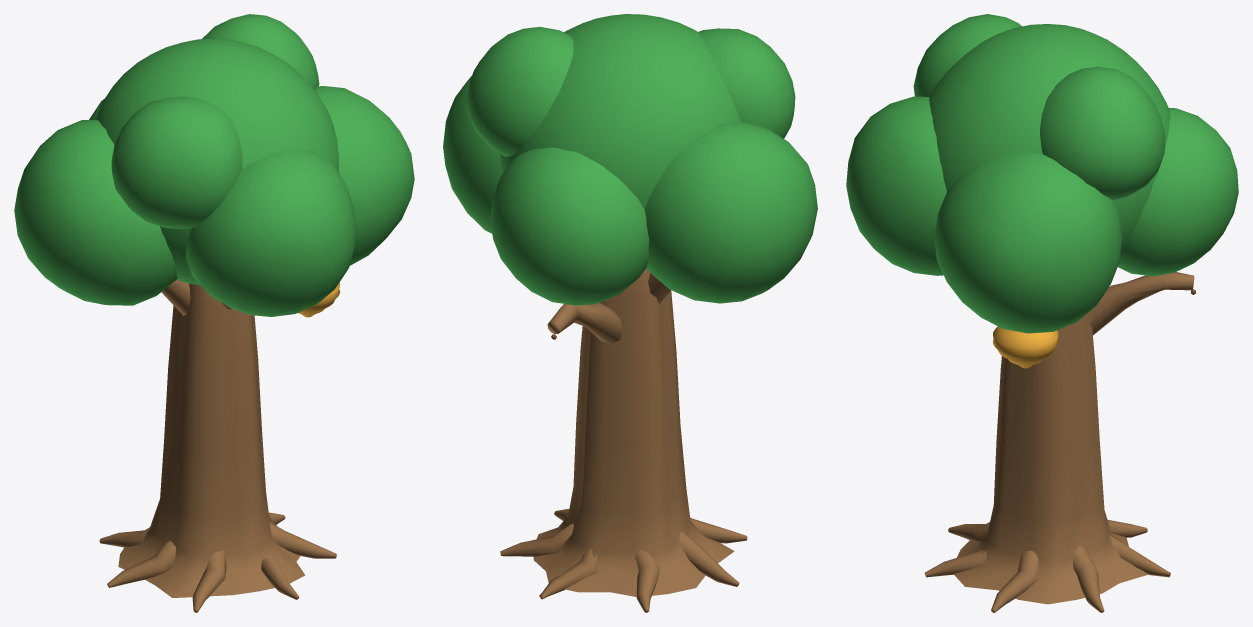
File: HoneyTree.obj
3 views of the same model, side by side, from view 1: azimuth 30°, elevation 25°; view 2: azimuth 150°, elevation 25°; view 3: azimuth 270°, elevation 25° (orthographic). The views are drawn at different scales.
Parts seen in each view (by area): view 1: Leaves, Trunk; view 2: Leaves, Trunk; view 3: Leaves, Trunk, Hive.
Part boxes in pixels (left/top/right/bottom): Leaves: left=14, top=14, right=414, bottom=316; Trunk: left=99, top=280, right=336, bottom=612; Leaves: left=443, top=14, right=817, bottom=305; Trunk: left=500, top=269, right=747, bottom=612; Leaves: left=846, top=14, right=1238, bottom=333; Trunk: left=924, top=272, right=1194, bottom=612; Hive: left=993, top=326, right=1058, bottom=368.
Size of the model in its own units: 42.03 by 57.93 by 39.1.
